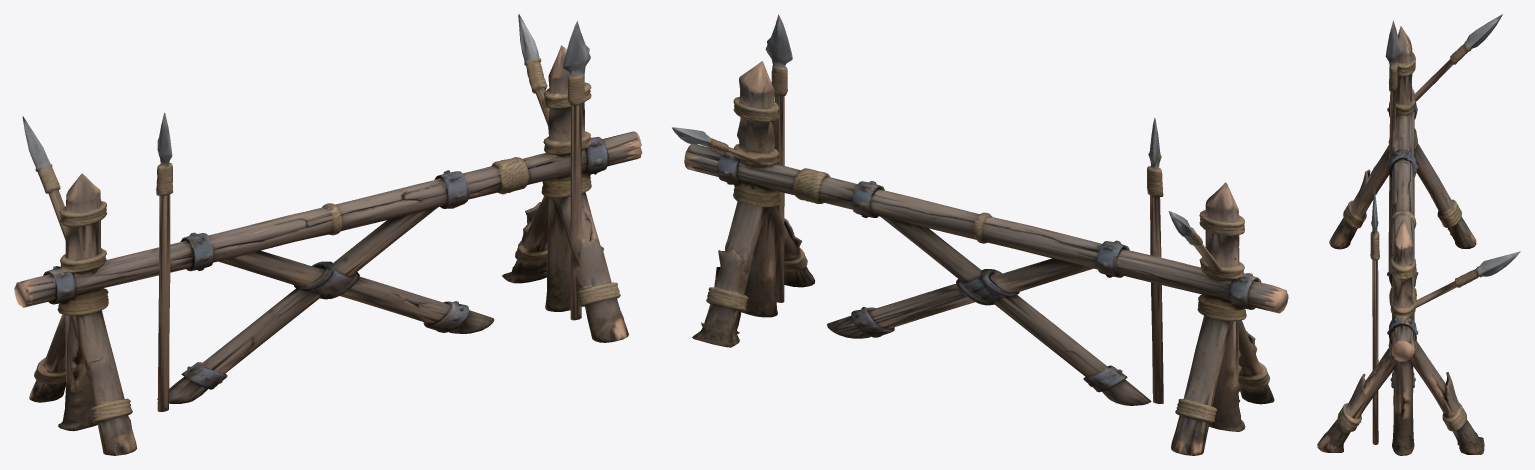
Rendered from cheval-de-frise-hy3-v1.glb.
The picture shows the model from 3 angles, left to right: view 1: azimuth 30°, elevation 25°; view 2: azimuth 150°, elevation 25°; view 3: azimuth 270°, elevation 25°; orthographic projection. The views are drawn at different scales.
Visible parts, largest first — view 1: node_0; view 2: node_0; view 3: node_0.
Part boxes in pixels (x1,y1,x2,y2): node_0: [14, 14, 642, 455]; node_0: [672, 14, 1288, 455]; node_0: [1317, 14, 1520, 455].
Size of the model in its own units: 2.7 by 1.25 by 0.9.
1 material, 1 textured.
